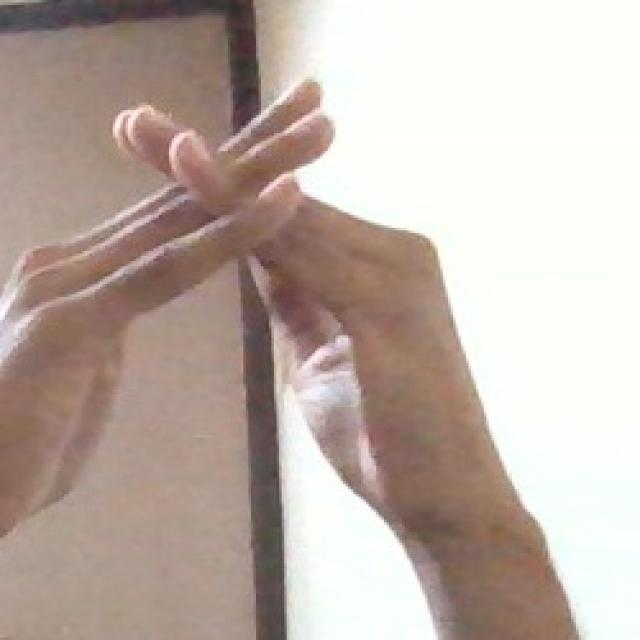Alphabet-W: (0, 79, 486, 510)
